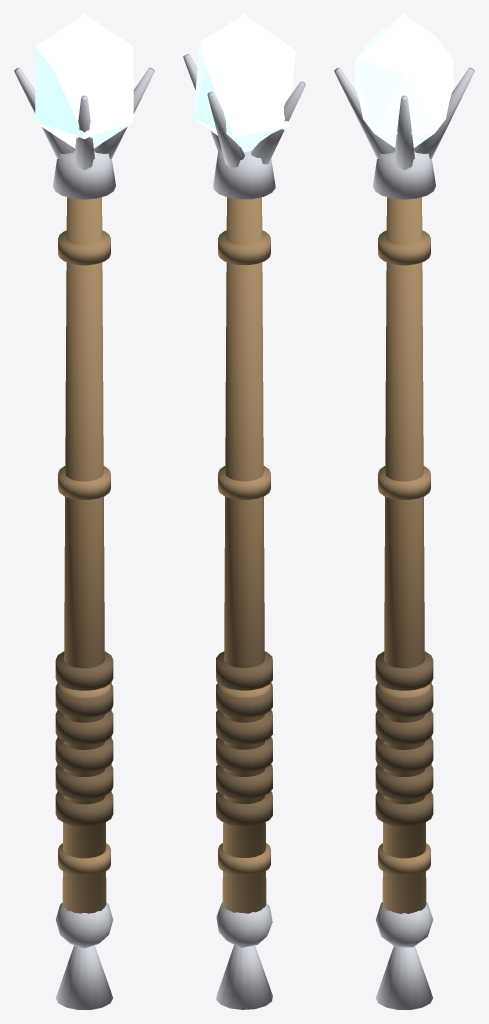
File: staff.glb
3 views of the same model, side by side, from view 1: azimuth 90°, elevation 25°; view 2: azimuth 150°, elevation 25°; view 3: azimuth 270°, elevation 25° (orthographic).
Visible parts, largest first — view 1: staff; view 2: staff; view 3: staff.
Part boxes in pixels (x1,y1,x2,y2): staff: (14,14,154,1009); staff: (183,14,305,1009); staff: (334,14,474,1009).
Bounding box in the file's own units: 0.2445 × 1.88 × 0.2445.
